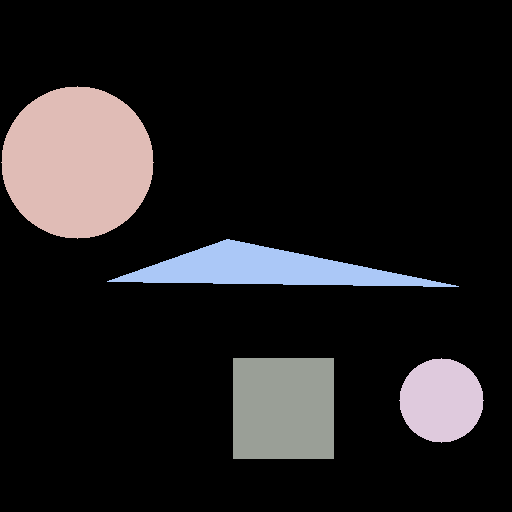circle: (1, 86, 153, 238), (399, 358, 483, 442)
square: (233, 358, 333, 458)
triangle: (107, 239, 458, 286)
